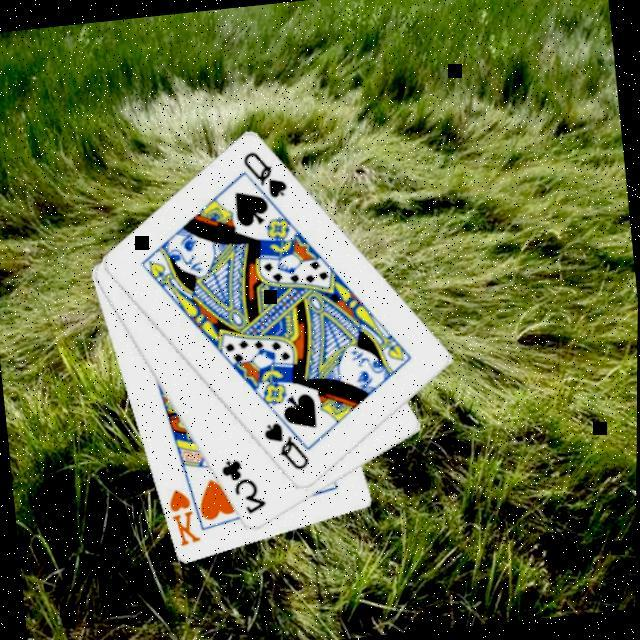3C: (218, 452, 272, 520)
KH: (165, 482, 206, 550)
QS: (262, 414, 316, 475), (240, 143, 294, 204)
